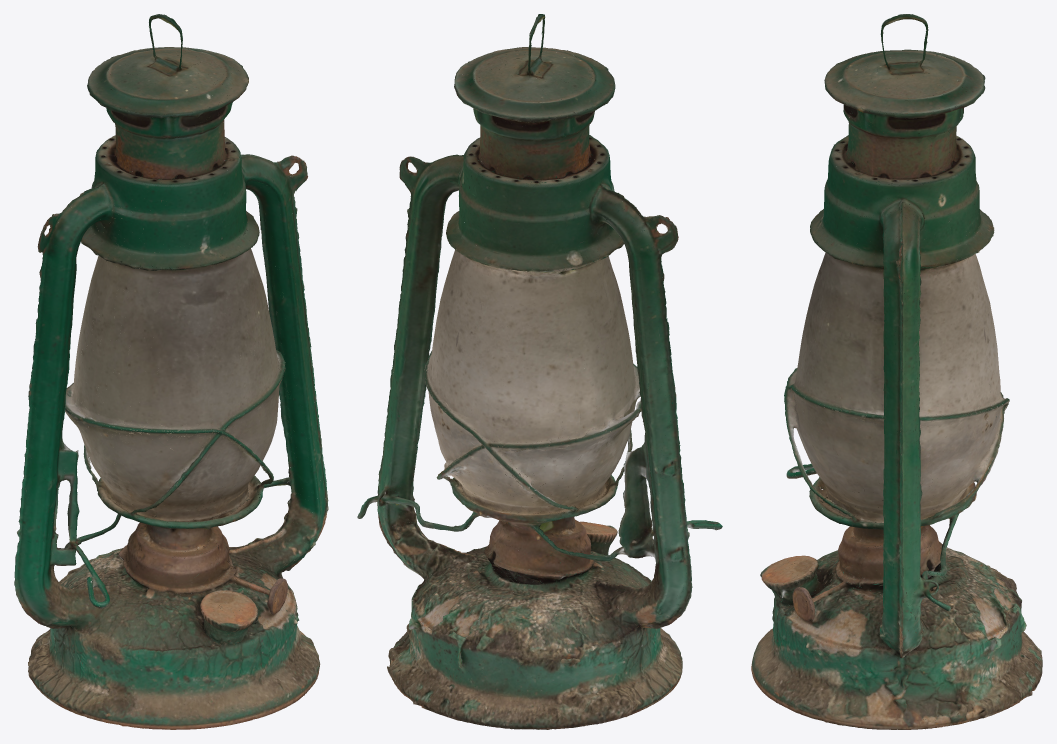
File: obj_old_oil_lamp_aaa99a.glb
3 renders of one model, left to right at view 1: azimuth 30°, elevation 25°; view 2: azimuth 150°, elevation 25°; view 3: azimuth 270°, elevation 25°, orthographic.
Parts seen in each view (by area): view 1: obj_old_oil_lamp_aaa99a; view 2: obj_old_oil_lamp_aaa99a; view 3: obj_old_oil_lamp_aaa99a.
Boxes of the visible parts, box(x1,y1,x2,y2) form: obj_old_oil_lamp_aaa99a: box(14, 14, 328, 729); obj_old_oil_lamp_aaa99a: box(357, 14, 722, 729); obj_old_oil_lamp_aaa99a: box(751, 14, 1042, 729).
Size of the model in its own units: 0.1761 by 0.3502 by 0.1416.
1 material, 1 textured.
